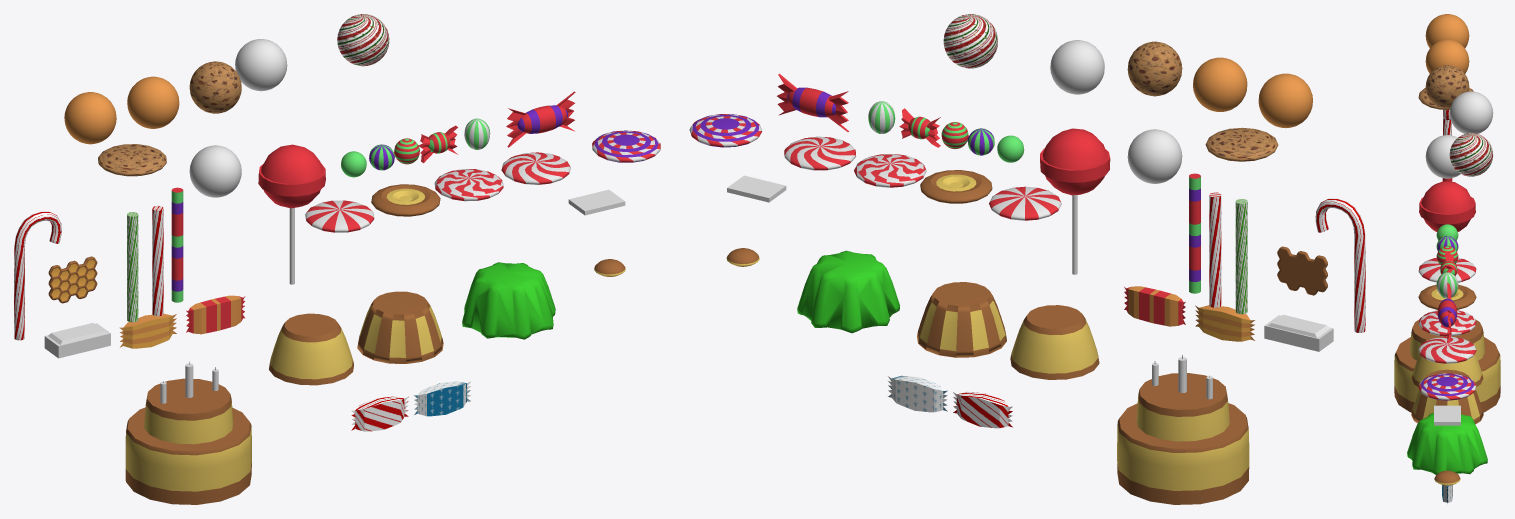
The model's file is candy.fbx.
3 views of the same model, side by side, from view 1: azimuth 30°, elevation 25°; view 2: azimuth 150°, elevation 25°; view 3: azimuth 270°, elevation 25° (orthographic). The views are drawn at different scales.
Visible parts, largest first — view 1: Cylinder.007, Cylinder.011, Cylinder.006, Cylinder.005, Sphere, Sphere.011, Sphere.014, Sphere.017, Sphere.013, Sphere.016, Sphere.012, Cylinder.004 (+18 smaller); view 2: Cylinder.007, Cylinder.011, Cylinder.006, Cylinder.005, Sphere, Sphere.011, Sphere.017, Sphere.012, Sphere.016, Sphere.013, Sphere.014, Cylinder.004 (+19 smaller); view 3: Cylinder.011, Cylinder.007, Sphere, Sphere.013, Sphere.012, Sphere.014, Cylinder.006, Sphere.006, Sphere.005, Cylinder.005, Sphere.016, Sphere.017 (+16 smaller).
Boxes of the visible parts, bbox=[...] form: Cylinder.007: bbox=[125, 378, 251, 504]; Cylinder.011: bbox=[462, 262, 555, 339]; Cylinder.006: bbox=[357, 291, 443, 363]; Cylinder.005: bbox=[269, 313, 353, 385]; Sphere: bbox=[258, 144, 325, 208]; Sphere.011: bbox=[189, 145, 241, 197]; Sphere.014: bbox=[189, 61, 241, 113]; Sphere.017: bbox=[64, 92, 116, 144]; Sphere.013: bbox=[337, 14, 389, 66]; Sphere.016: bbox=[127, 76, 179, 128]; Sphere.012: bbox=[235, 39, 287, 91]; Cylinder.004: bbox=[14, 211, 61, 340]; Cylinder.007: bbox=[1117, 373, 1249, 504]; Cylinder.011: bbox=[797, 250, 899, 333]; Cylinder.006: bbox=[917, 282, 1006, 357]; Cylinder.005: bbox=[1010, 305, 1099, 379]; Sphere: bbox=[1040, 128, 1110, 195]; Sphere.011: bbox=[1127, 129, 1182, 183]; Sphere.017: bbox=[1258, 73, 1312, 128]; Sphere.012: bbox=[1050, 40, 1104, 94]; Sphere.016: bbox=[1193, 57, 1247, 111]; Sphere.013: bbox=[943, 14, 997, 68]; Sphere.014: bbox=[1127, 41, 1182, 96]; Cylinder.004: bbox=[1315, 198, 1365, 332]; Cylinder.011: bbox=[1407, 413, 1487, 474]; Cylinder.007: bbox=[1394, 319, 1500, 412]; Sphere: bbox=[1419, 181, 1475, 231]; Sphere.013: bbox=[1449, 133, 1493, 176]; Sphere.012: bbox=[1449, 91, 1493, 133]; Sphere.014: bbox=[1425, 65, 1469, 108]; Cylinder.006: bbox=[1411, 369, 1483, 424]; Sphere.006: bbox=[1418, 373, 1476, 400]; Sphere.005: bbox=[1418, 336, 1476, 363]; Cylinder.005: bbox=[1411, 335, 1483, 386]; Sphere.016: bbox=[1425, 39, 1469, 73]; Sphere.017: bbox=[1425, 14, 1469, 47].
Bounding box in the file's own units: 6364 × 3865 × 1095.
19 materials, 5 textured.
